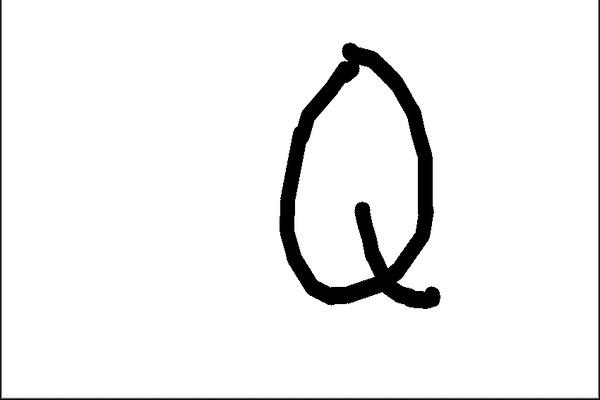Q: (259, 30, 457, 327)
